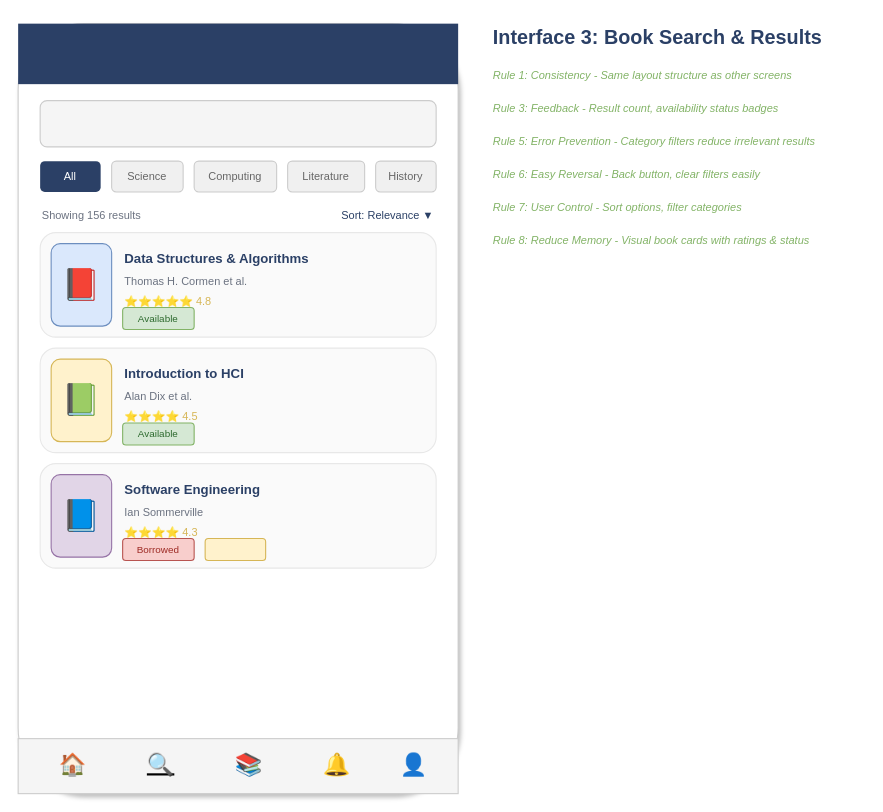
Some shapes in this 883 by 812 pixel diagram are drawn without their labels. Here are the shapes that lost their labels. From the top down, the centre of each, then its label:
the point at 238,53: ← Search Books
the point at 237,123: 🔍 Search by title, author, ISBN...
the point at 235,548: Reserve
